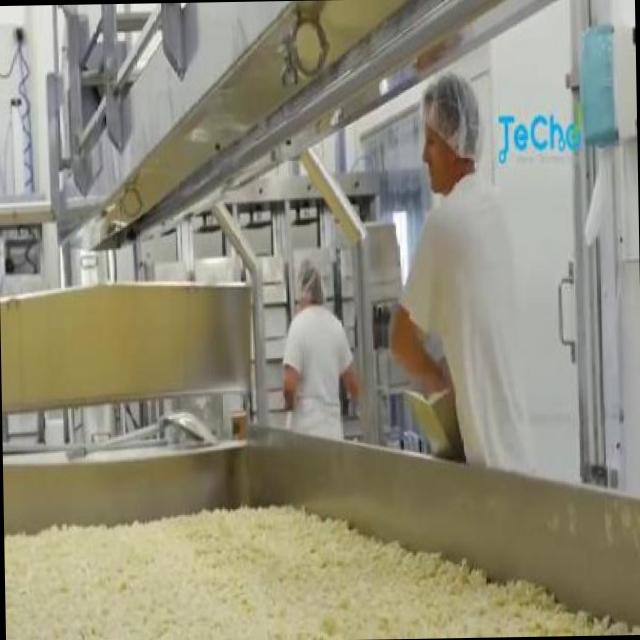hairnet: (420, 72, 480, 160), (296, 258, 326, 304)
